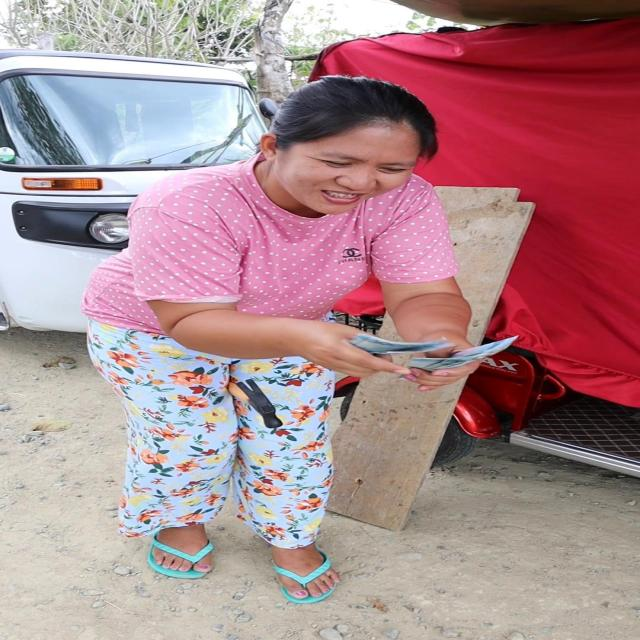hammer: (222, 378, 290, 432)
